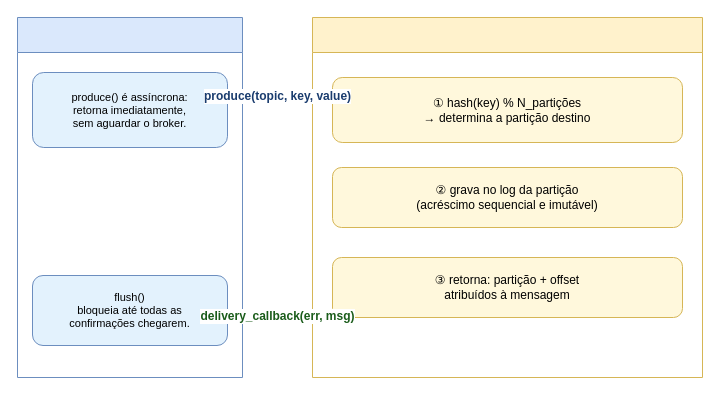
This 720x395 diagram has some shape labels left out. Each missing label, with the box of its shape:
Broker (Kafka): (312, 16, 702, 378)
Producer: (16, 16, 242, 378)
